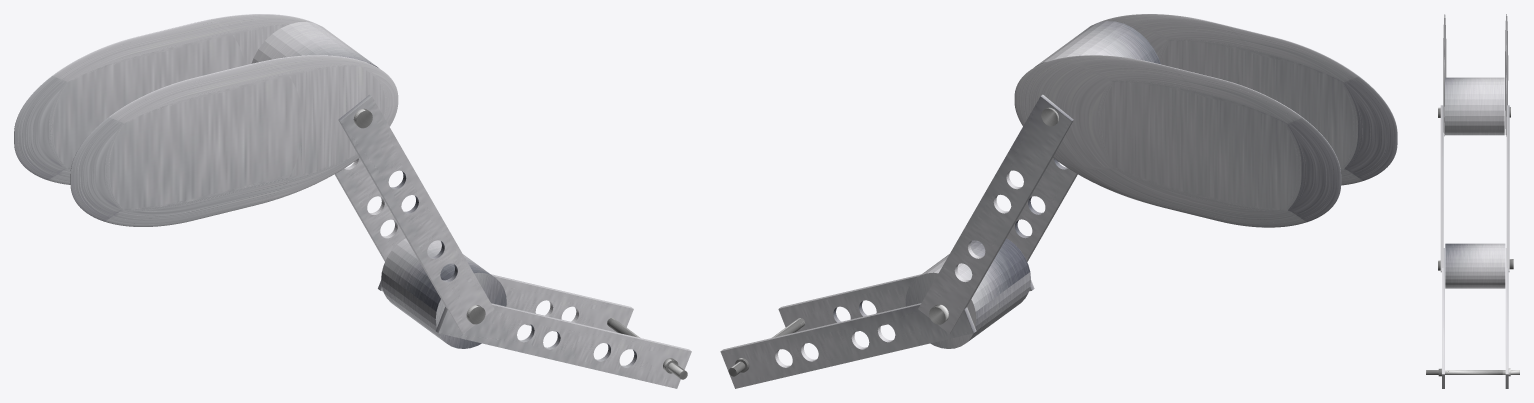
File: crepl_for_tube4.glb
The picture shows the model from 3 angles, left to right: view 1: azimuth 30°, elevation 25°; view 2: azimuth 150°, elevation 25°; view 3: azimuth 270°, elevation 25°; orthographic projection. The views are drawn at different scales.
Visible parts, largest first — view 1: Cylinder.022; view 2: Cylinder.022; view 3: Cylinder.022.
Boxes of the visible parts, left/top/right/bottom form: Cylinder.022: left=14, top=14, right=691, bottom=388; Cylinder.022: left=720, top=14, right=1397, bottom=388; Cylinder.022: left=1426, top=14, right=1519, bottom=388.
Bounding box in the file's own units: 13.92 × 9.17 × 3.33.
Materials: 4 (4 with a texture image).
